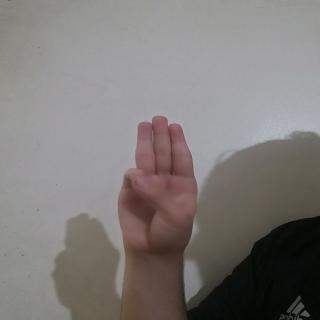THA: (111, 113, 208, 261)
